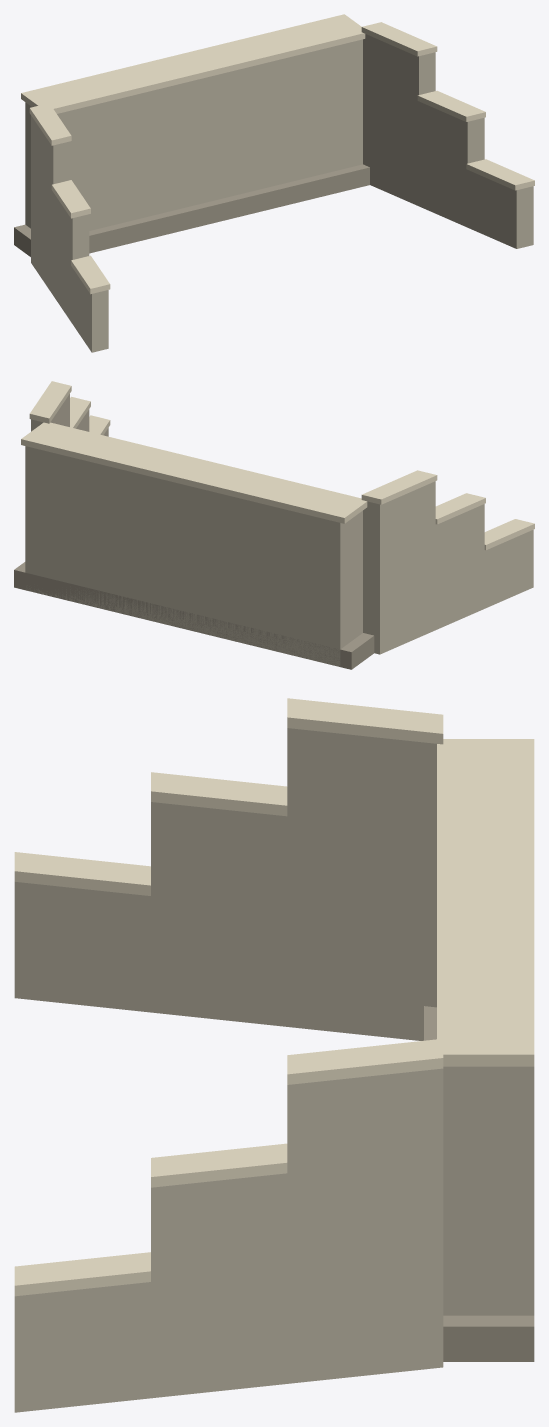
File: bridge_abutment.glb
3 views of the same model, one above another, from view 1: azimuth 30°, elevation 25°; view 2: azimuth 150°, elevation 25°; view 3: azimuth 270°, elevation 25° (orthographic). The views are drawn at different scales.
Visible parts, largest first — view 1: bridge_abutment; view 2: bridge_abutment; view 3: bridge_abutment.
Part boxes in pixels (x1,y1,x2,y2): bridge_abutment: [14, 14, 534, 352]; bridge_abutment: [14, 381, 534, 669]; bridge_abutment: [14, 698, 534, 1412].
Size of the model in its own units: 15.8 by 5.28 by 8.
